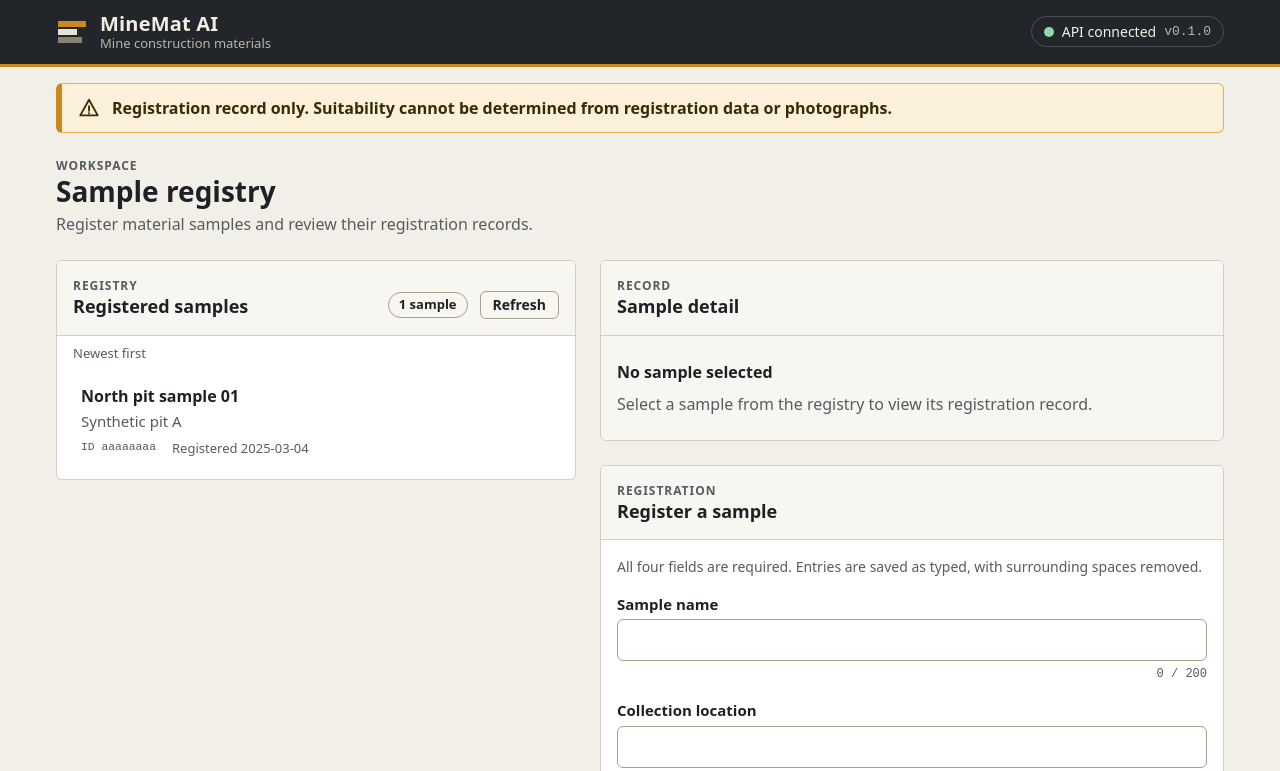
it: sample detail › shows an error when the sample record cannot be loaded
Click the button "North pit sample 01". click: (160, 396)
box: [65,371,567,471]
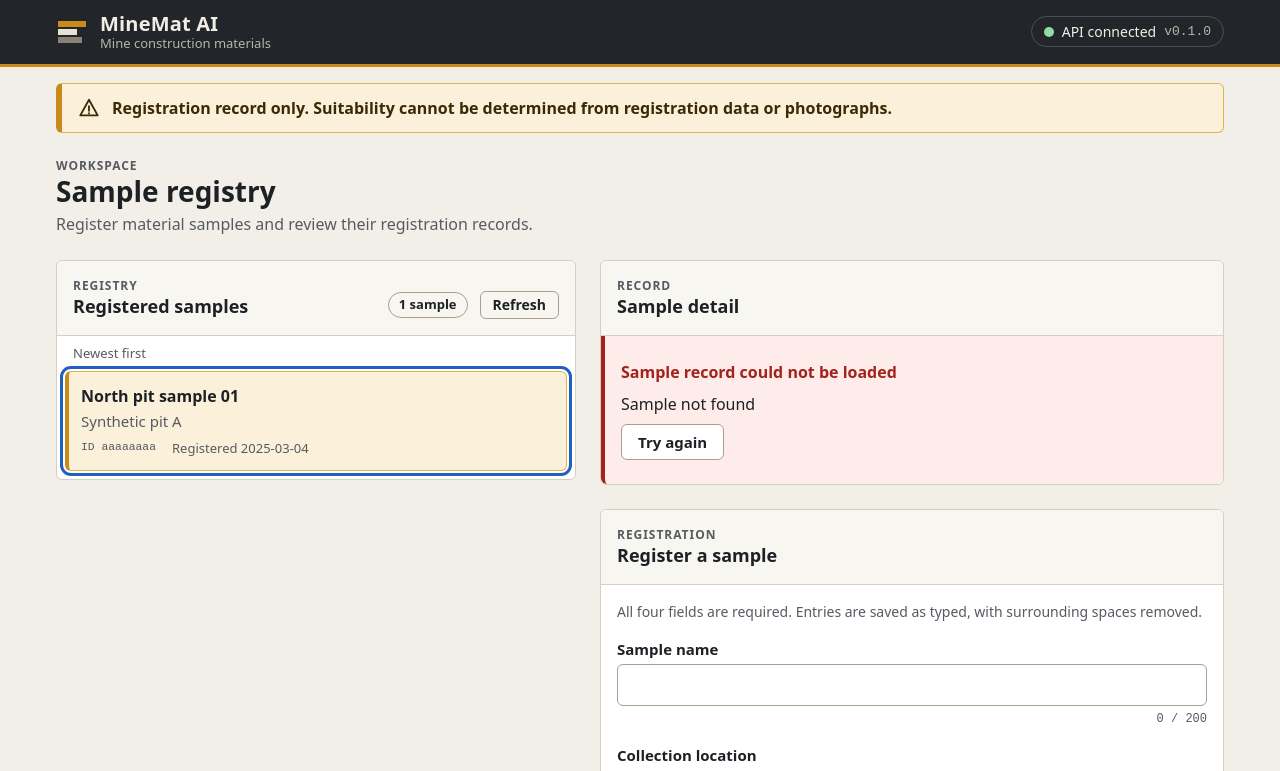
Check: the message "Sample record could not be loaded Sample not found Try again" is shown, box [601,336,1223,484]
